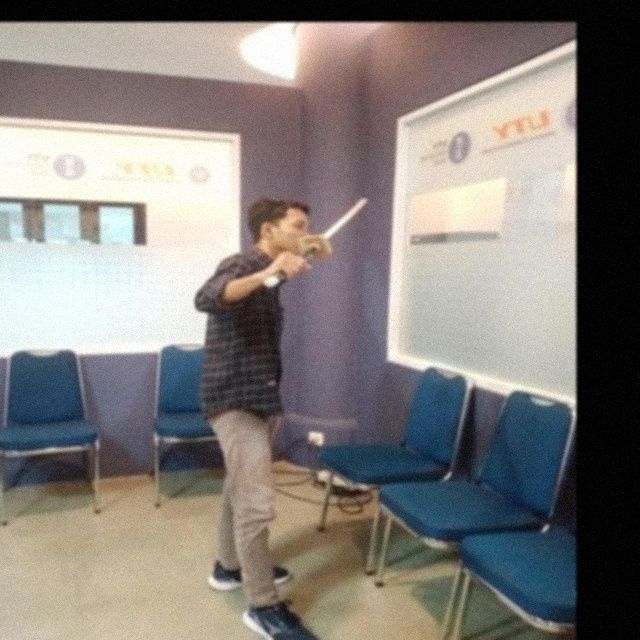Sharp-Object: (273, 192, 386, 303)
